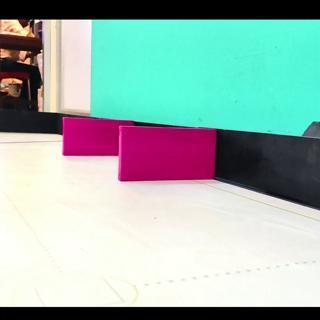xparking: (121, 128, 215, 182), (65, 120, 118, 156)
